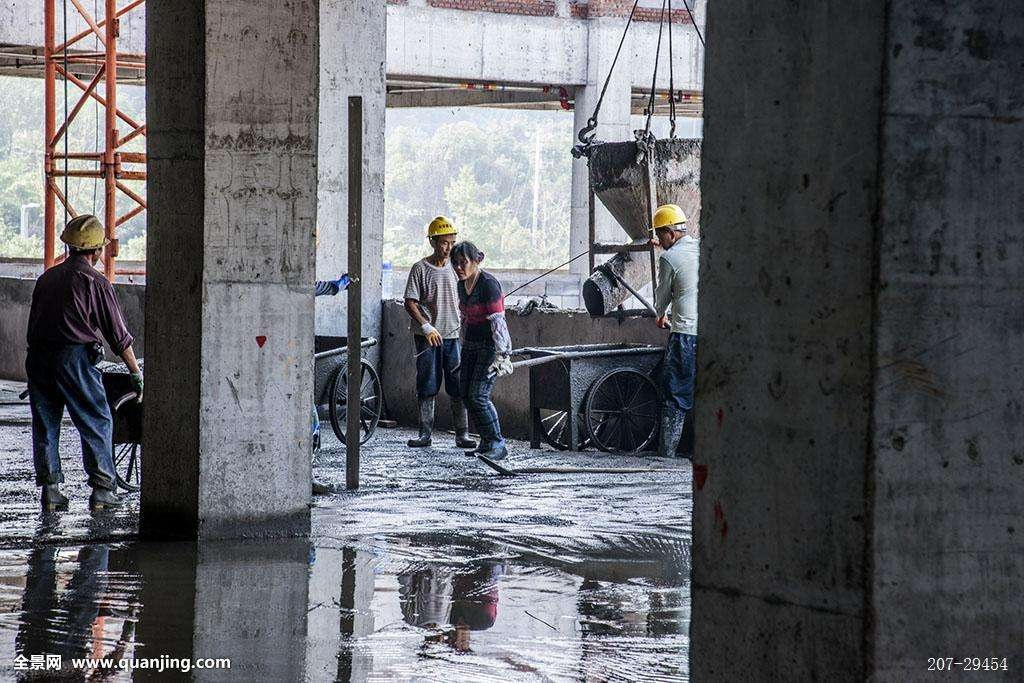none: (447, 239, 479, 284)
yellow: (60, 213, 106, 270), (646, 199, 688, 248), (424, 213, 459, 257)
